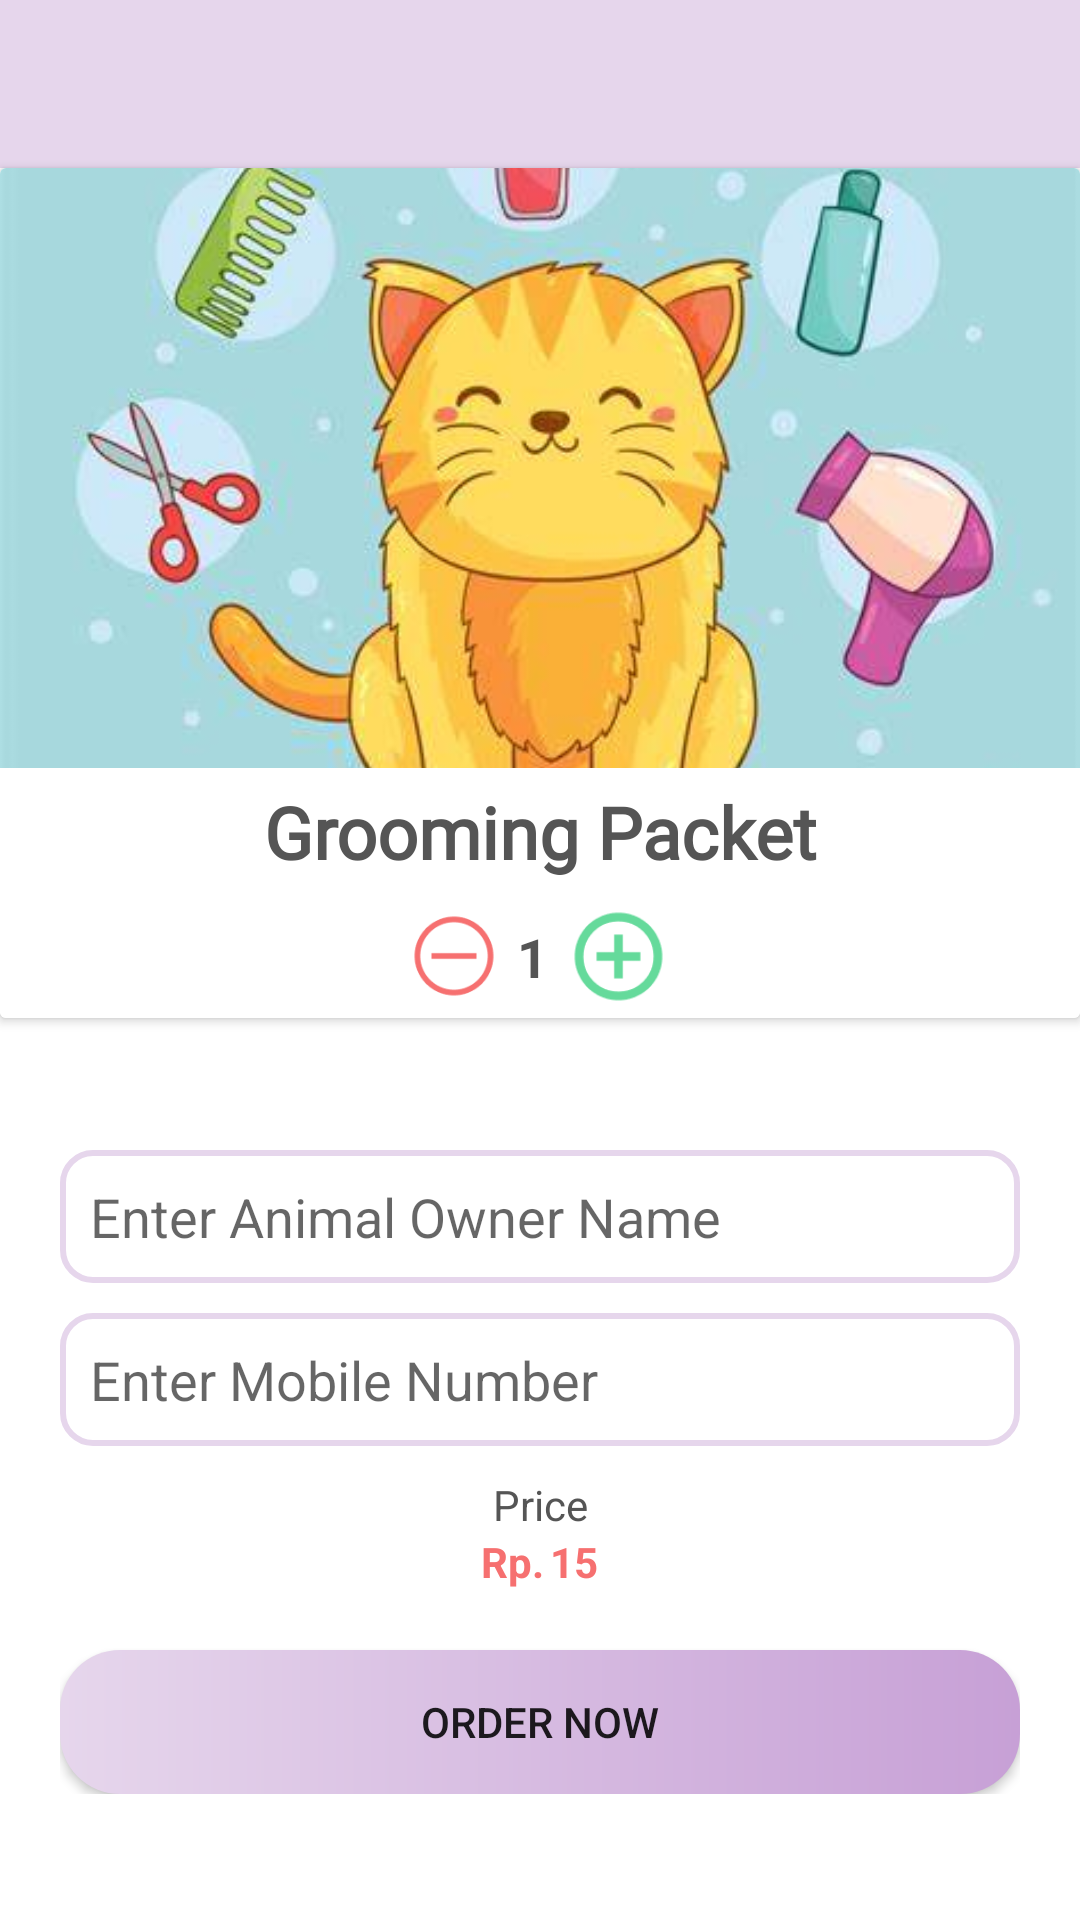

Where icons sit on this 1080w x 1920h app screen, as (x1, y1, x2, y2):
add: (574, 912, 663, 1001)
subtract: (414, 916, 494, 996)
